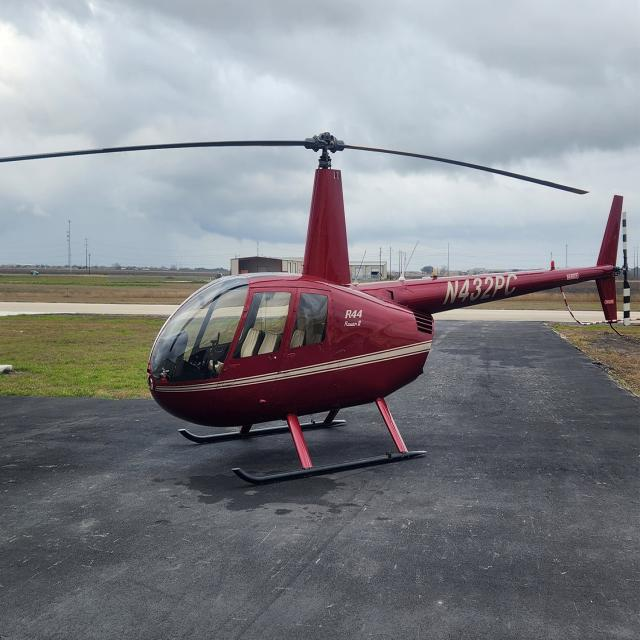CIV_HELO: (144, 128, 629, 490)
